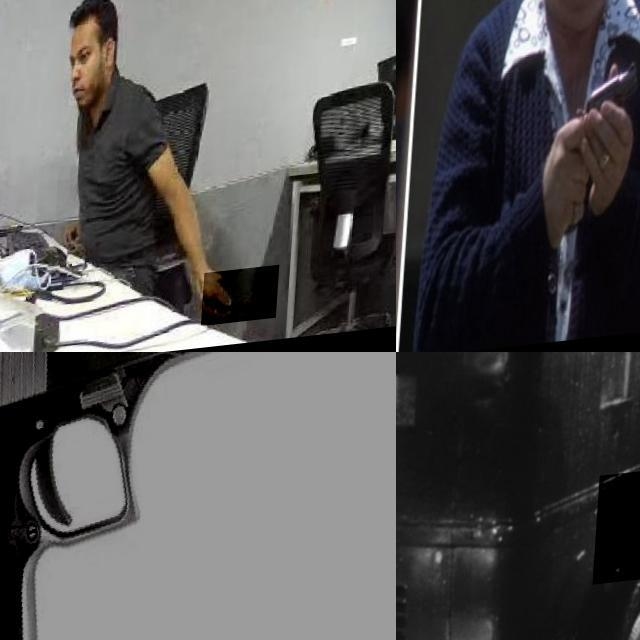-: (210, 274, 288, 334)
gun-knife-thesis - v11 Yolov5 augmented: (0, 352, 396, 640), (584, 53, 640, 172), (396, 0, 427, 144)
